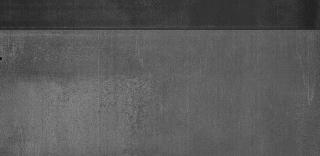punching hole: (0, 54, 6, 64)
welding line: (2, 24, 320, 34)
